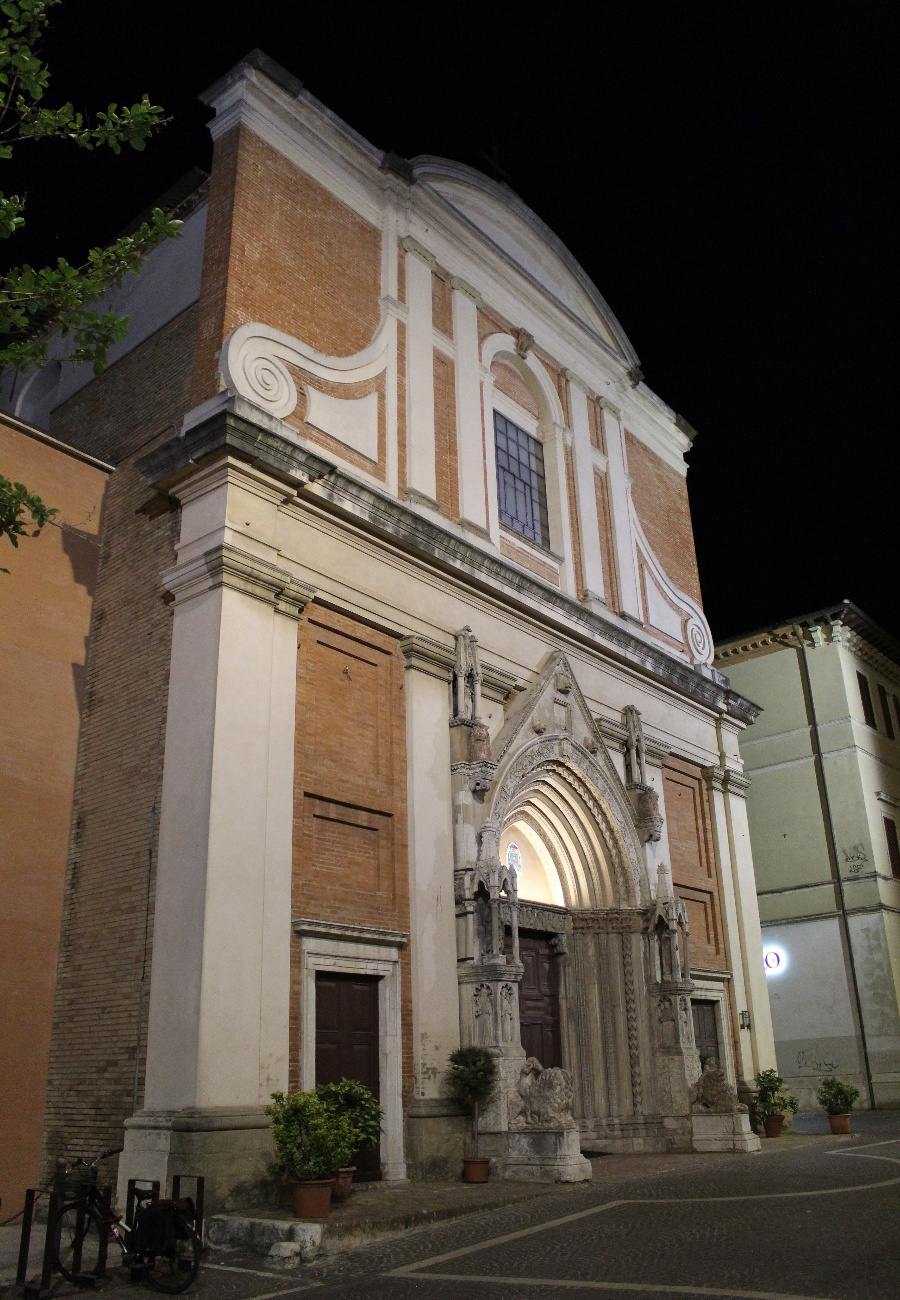Chiesa San Agostino: (133, 51, 784, 1210)
